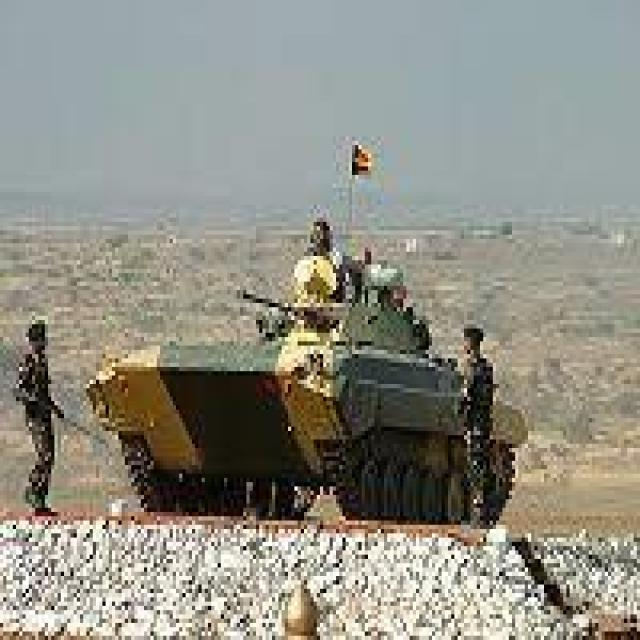Tanks: (22, 62, 554, 595)
